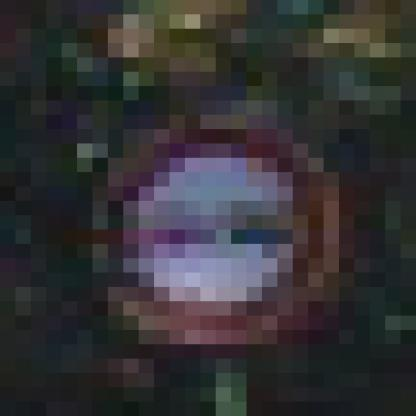No Overtaking: (78, 87, 340, 331)
